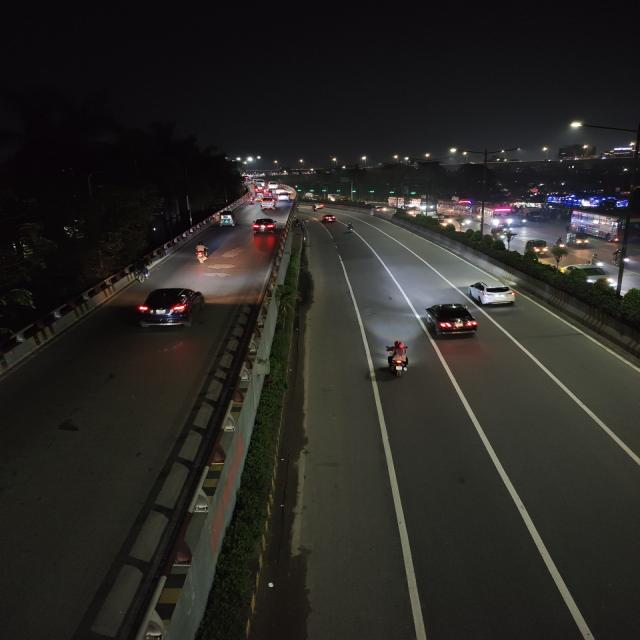bus: (570, 209, 639, 245), (439, 202, 510, 224), (489, 204, 515, 226), (388, 195, 416, 209)
car: (134, 285, 208, 331), (420, 301, 481, 341), (466, 276, 520, 310), (565, 264, 614, 288), (252, 216, 278, 235), (261, 199, 279, 211), (320, 213, 336, 224), (369, 205, 386, 215), (275, 192, 291, 201), (312, 203, 324, 213)
cng: (523, 238, 550, 258), (567, 231, 592, 248), (217, 210, 236, 228)
motorcycle: (379, 340, 416, 378), (611, 248, 635, 270), (190, 242, 212, 264), (589, 253, 606, 271), (344, 222, 355, 234), (247, 196, 258, 204)
